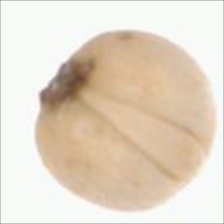L5: (81, 86, 209, 186), (36, 49, 101, 114)
L6: (33, 27, 219, 214)
